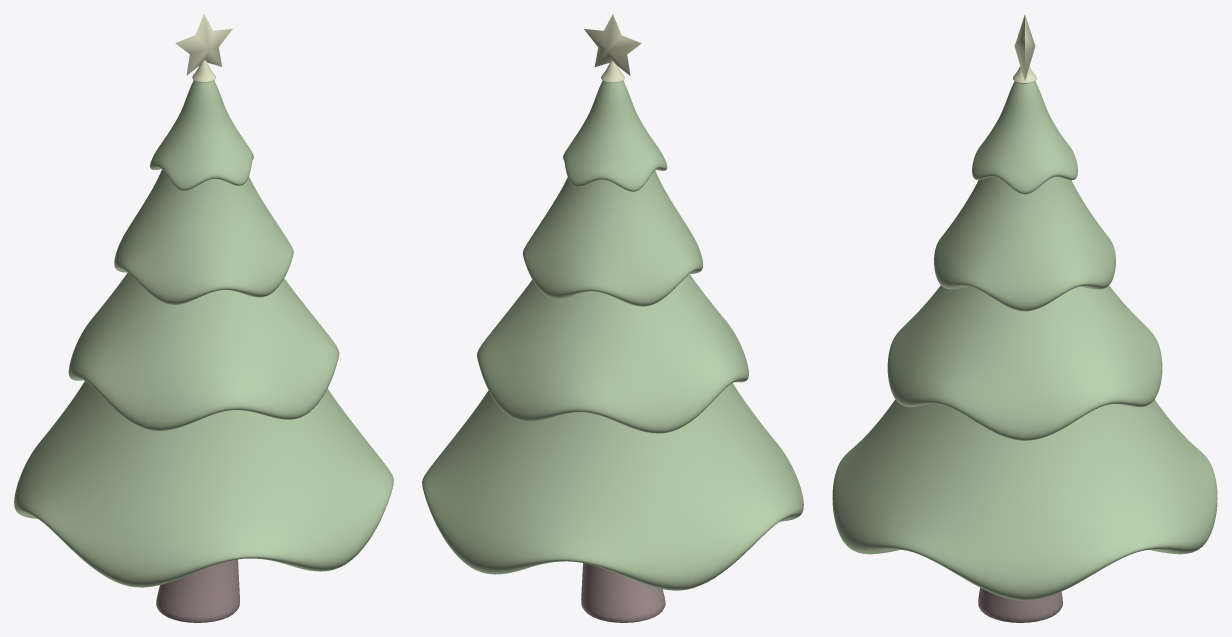
Rendered from tree3.gltf.
The picture shows the model from 3 angles, left to right: view 1: azimuth 30°, elevation 25°; view 2: azimuth 150°, elevation 25°; view 3: azimuth 270°, elevation 25°; orthographic projection.
Visible parts, largest first — view 1: Null.1, Cylinder.1, Extrude; view 2: Null.1, Cylinder.1, Extrude; view 3: Null.1, Cylinder.1, Extrude.
Boxes of the visible parts, box(x1,y1,x2,y2) form: Null.1: box(14, 80, 393, 587); Cylinder.1: box(156, 559, 239, 622); Extrude: box(175, 14, 232, 75); Null.1: box(422, 80, 803, 590); Cylinder.1: box(581, 563, 665, 622); Extrude: box(584, 14, 641, 75); Null.1: box(832, 81, 1217, 600); Cylinder.1: box(978, 587, 1062, 622); Extrude: box(1014, 15, 1035, 80).
Bounding box in the file's own units: 5.4 × 9.25 × 5.41.
